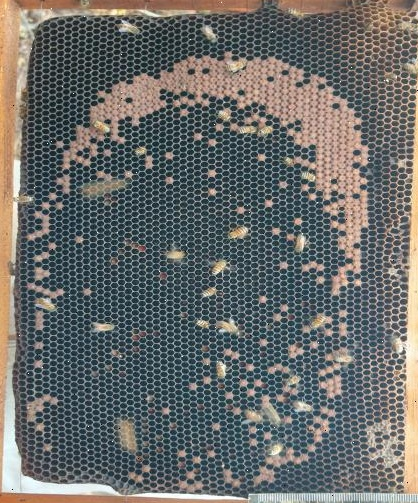cria: (20, 51, 369, 496)
